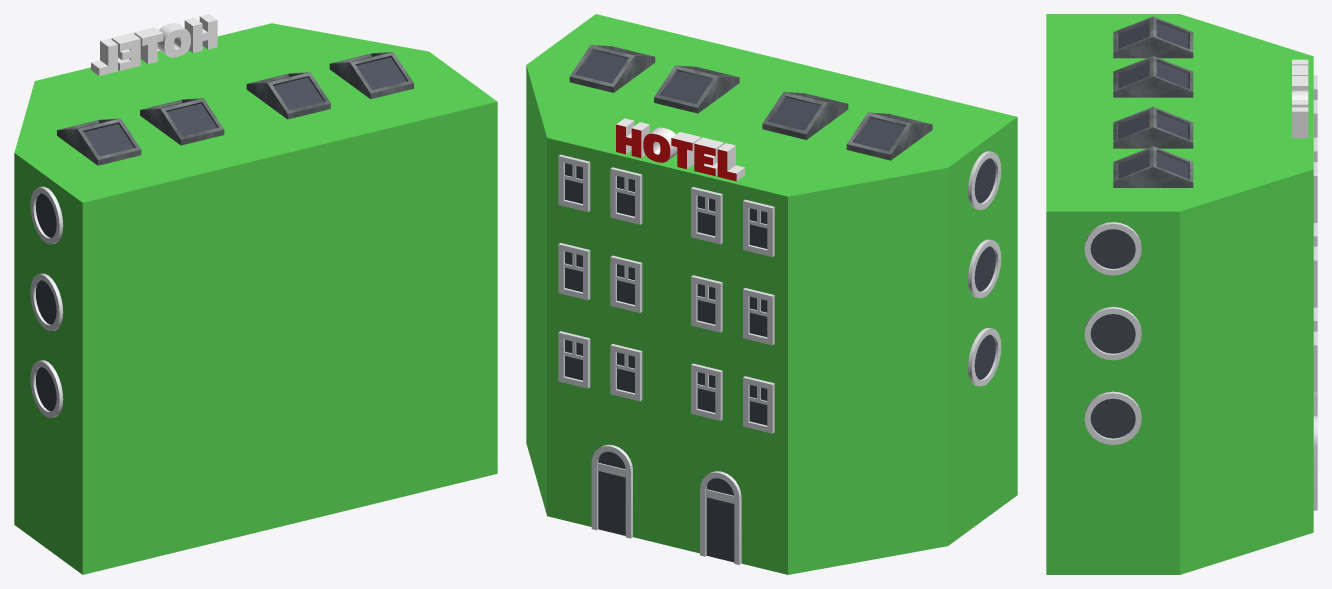
File: Building 03.fbx
The picture shows the model from 3 angles, left to right: view 1: azimuth 30°, elevation 25°; view 2: azimuth 150°, elevation 25°; view 3: azimuth 270°, elevation 25°; orthographic projection. The views are drawn at different scales.
Parts seen in each view (by area): view 1: block_corner_small_84, block_corner_small_85, block_half_81, sign_textHotel_109, roof_windowGlass%_106, roof_windowGlass%_107, roof_windowGlass%_108, roof_windowGlass%_105, window_round_100, window_round_101, window_round_102; view 2: block_corner_small_84, block_corner_small_85, block_half_81, sign_textHotel_109, door_rounded_86, door_rounded_87, window_detail_double_92, window_detail_double_90, window_detail_double_88, window_detail_double_91, window_detail_double_93, window_detail_double_89 (+7 smaller); view 3: block_corner_small_85, block_corner_small_84, block_half_81, roof_windowGlass%_108, roof_windowGlass%_106, roof_windowGlass%_107, roof_windowGlass%_105, window_round_97, window_round_98, window_round_99, sign_textHotel_109, door_rounded_86 (+3 smaller).
Boxes of the visible parts, <box> form: block_corner_small_84: <box>14,67,260,574</box>; block_corner_small_85: <box>194,23,497,516</box>; block_half_81: <box>135,50,319,531</box>; sign_textHotel_109: <box>91,14,217,75</box>; roof_windowGlass%_106: <box>246,72,330,119</box>; roof_windowGlass%_107: <box>140,98,224,145</box>; roof_windowGlass%_108: <box>57,118,141,165</box>; roof_windowGlass%_105: <box>329,52,413,99</box>; window_round_100: <box>30,186,63,244</box>; window_round_101: <box>30,273,63,330</box>; window_round_102: <box>30,360,63,417</box>; block_corner_small_84: <box>697,73,1017,574</box>; block_corner_small_85: <box>526,14,776,537</box>; block_half_81: <box>637,58,836,552</box>; sign_textHotel_109: <box>616,118,744,181</box>; door_rounded_86: <box>591,444,632,538</box>; door_rounded_87: <box>700,471,741,564</box>; window_detail_double_92: <box>558,331,642,401</box>; window_detail_double_90: <box>558,243,642,312</box>; window_detail_double_88: <box>558,154,642,224</box>; window_detail_double_91: <box>691,275,774,345</box>; window_detail_double_93: <box>691,363,774,433</box>; window_detail_double_89: <box>691,187,774,256</box>; block_corner_small_85: <box>1046,127,1313,574</box>; block_corner_small_84: <box>1046,14,1313,98</box>; block_half_81: <box>1046,98,1313,126</box>; roof_windowGlass%_108: <box>1113,16,1193,58</box>; roof_windowGlass%_106: <box>1113,106,1193,148</box>; roof_windowGlass%_107: <box>1113,56,1193,97</box>; roof_windowGlass%_105: <box>1113,146,1193,187</box>; window_round_97: <box>1084,391,1141,444</box>; window_round_98: <box>1084,307,1141,360</box>; window_round_99: <box>1084,222,1141,275</box>; sign_textHotel_109: <box>1292,59,1308,138</box>; door_rounded_86: <box>1313,416,1317,510</box>.
Size of the model in its own units: 35.6 by 32.19 by 20.3.
8 materials, 1 textured.
